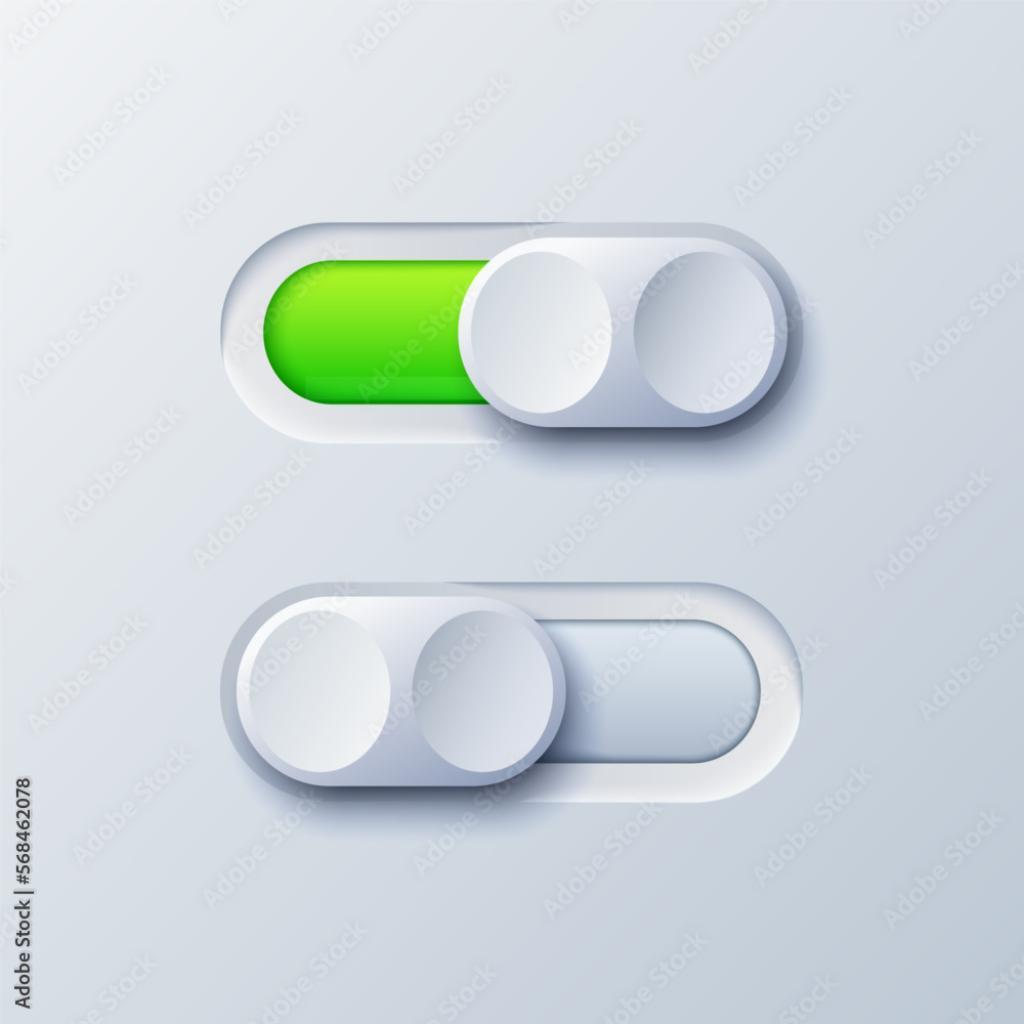switch: (220, 583, 806, 809), (221, 226, 808, 443)
